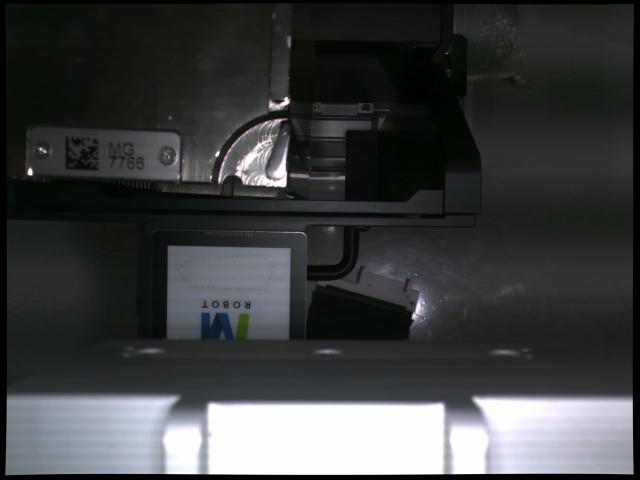jig_latch: (265, 123, 291, 180)
